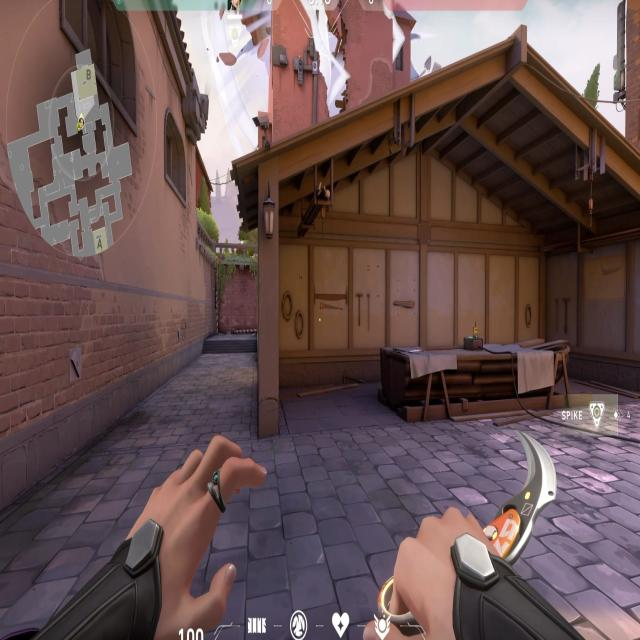B_Garage_Left: (250, 202, 363, 444)
B_Garage_Right: (495, 232, 625, 429)
